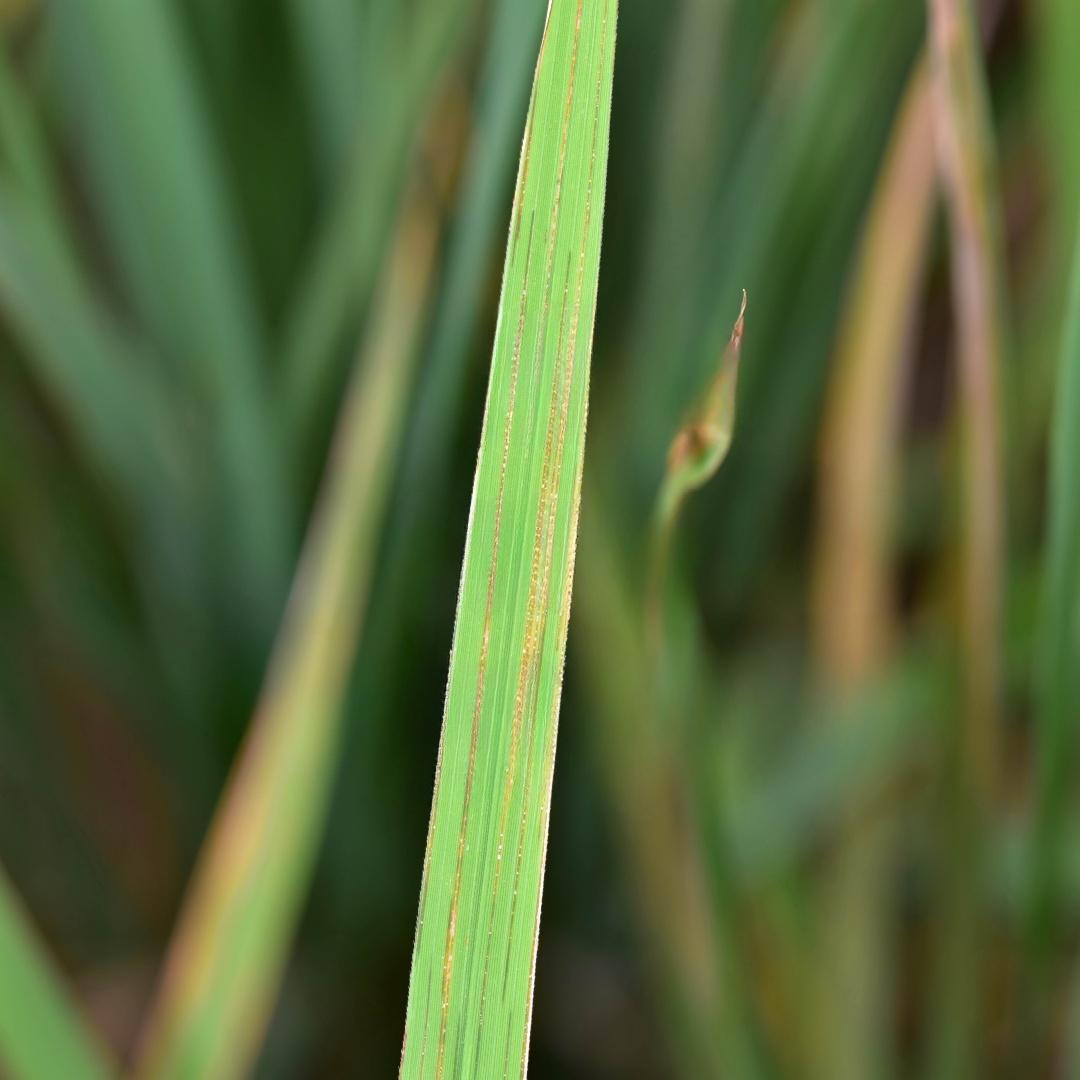BLS: (473, 0, 609, 1079), (435, 212, 533, 1079), (519, 308, 594, 1079), (526, 0, 583, 472), (512, 83, 537, 267), (420, 953, 432, 1079), (503, 1009, 511, 1079), (398, 1020, 407, 1079)
